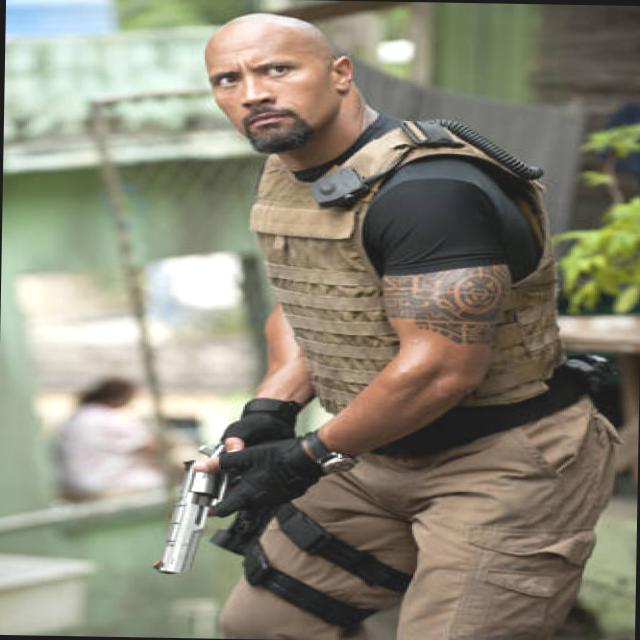handgun: (138, 442, 332, 582)
